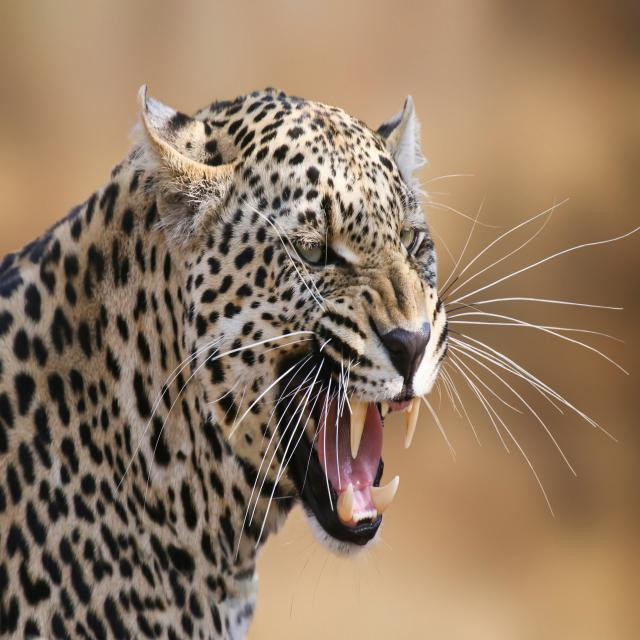leopard: (0, 85, 447, 640)
